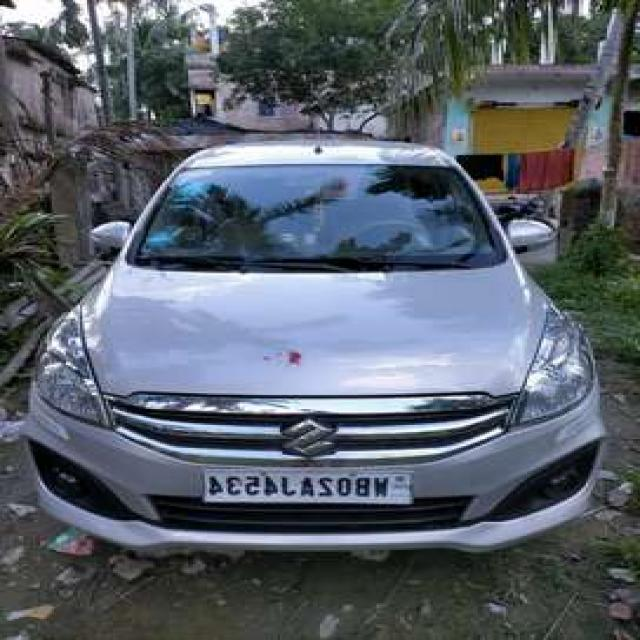license_plate: (194, 465, 417, 510)
